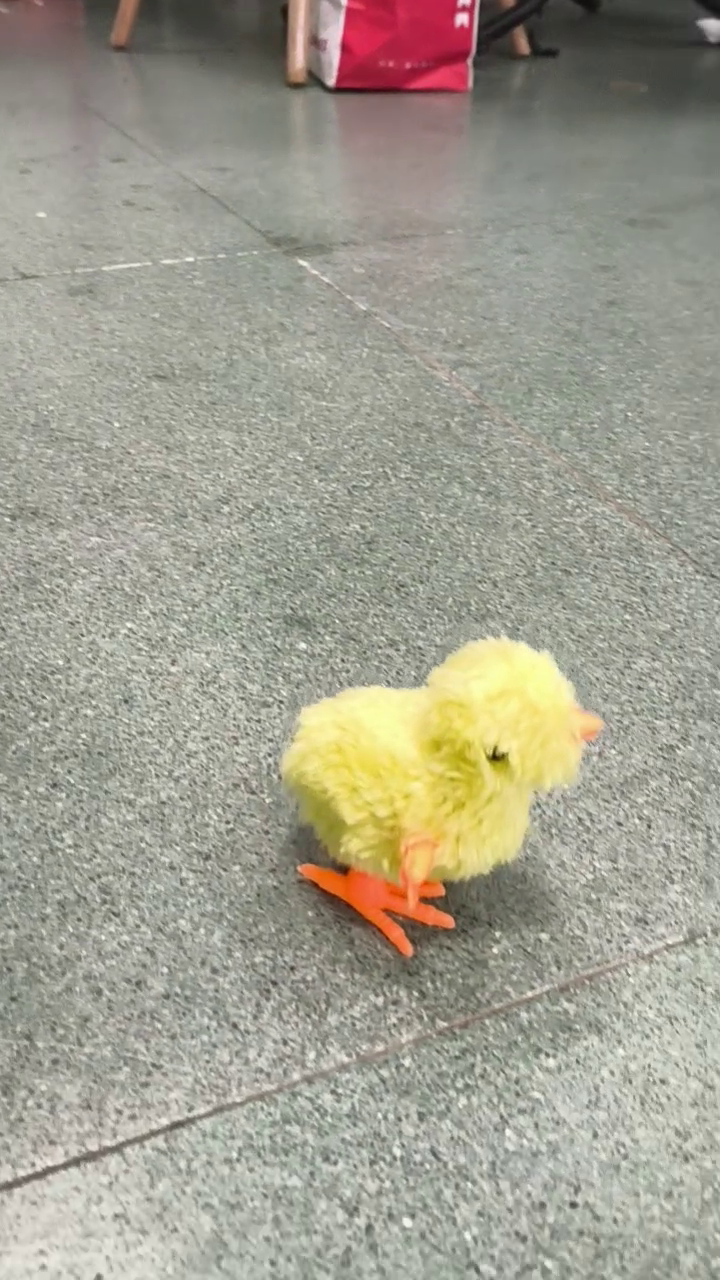yellow chicken: (276, 632, 611, 962)
